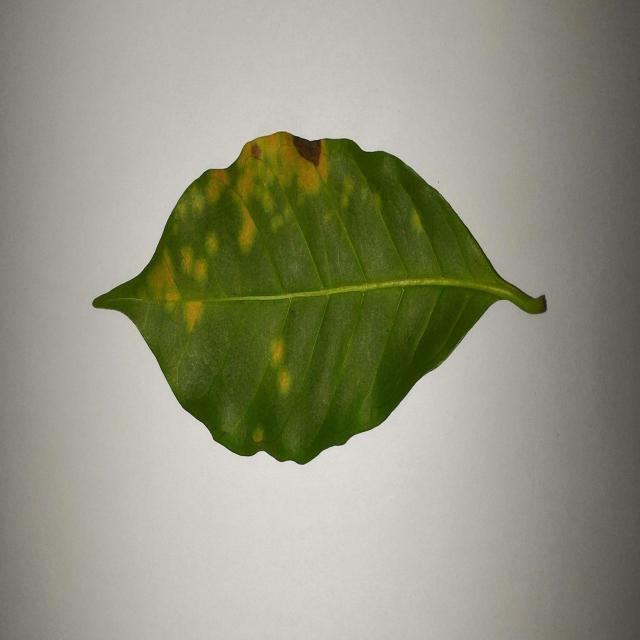rust: (233, 132, 328, 200), (152, 264, 202, 331), (182, 231, 219, 282), (268, 338, 296, 402), (235, 161, 276, 202), (232, 191, 258, 253), (249, 421, 268, 451), (207, 166, 222, 203)
